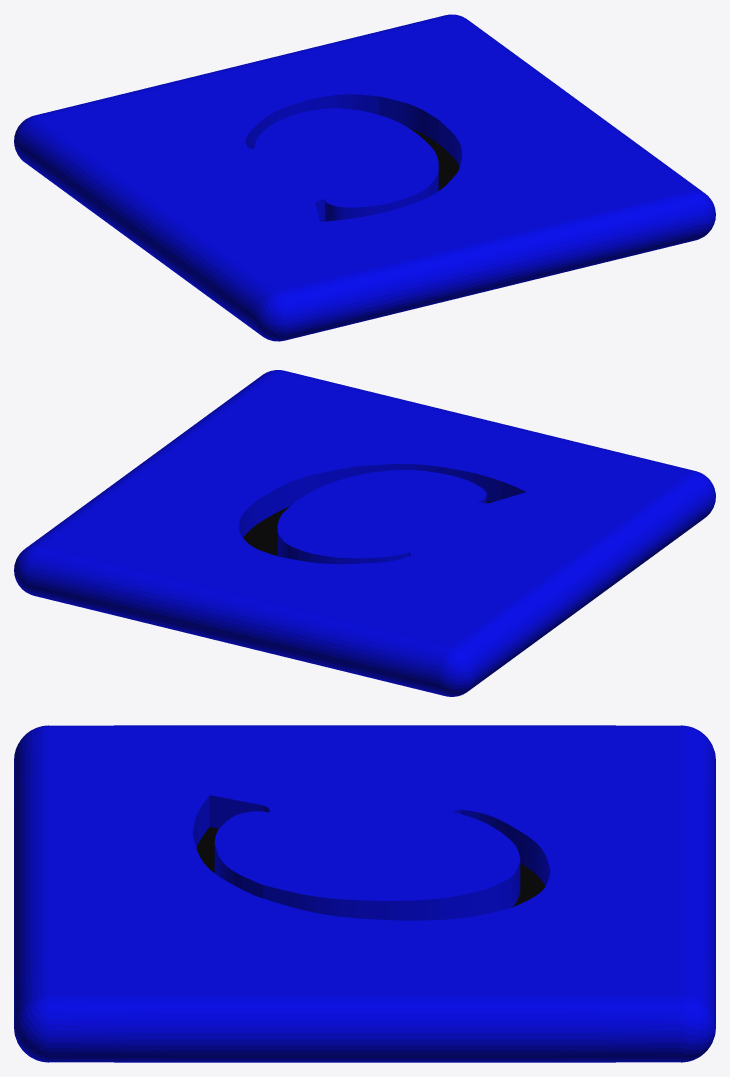
The model's file is tile-C.glb.
3 renders of one model, top to bottom at view 1: azimuth 30°, elevation 25°; view 2: azimuth 150°, elevation 25°; view 3: azimuth 270°, elevation 25°, orthographic. The views are drawn at different scales.
Visible parts, largest first — view 1: tile-puzzle-C v1; view 2: tile-puzzle-C v1; view 3: tile-puzzle-C v1.
Part boxes in pixels (bbox=[...]): tile-puzzle-C v1: bbox=[14, 14, 715, 341]; tile-puzzle-C v1: bbox=[14, 370, 715, 696]; tile-puzzle-C v1: bbox=[14, 725, 715, 1062].
Bounding box in the file's own units: 40 × 4 × 40.
